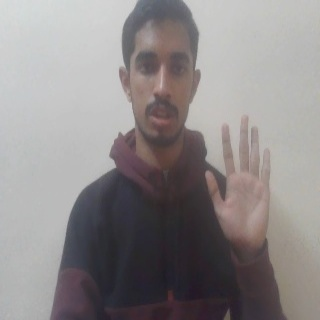Face: (117, 2, 203, 149)
Hello: (203, 112, 273, 256)
